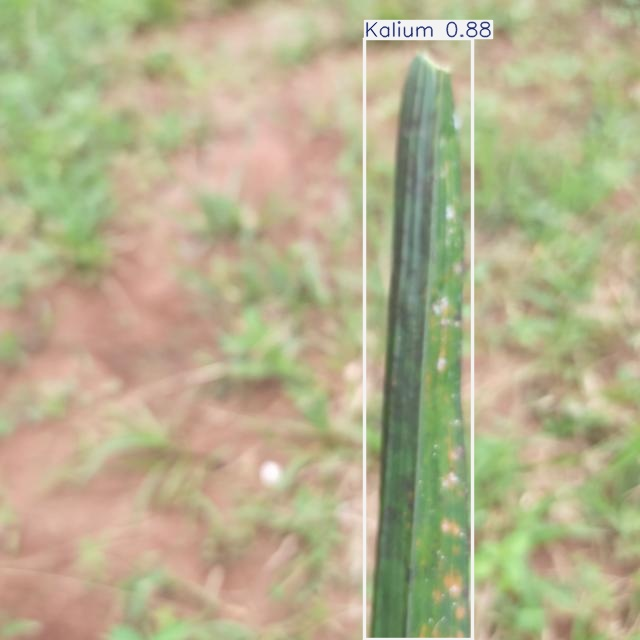Kalium: (365, 38, 473, 639)
